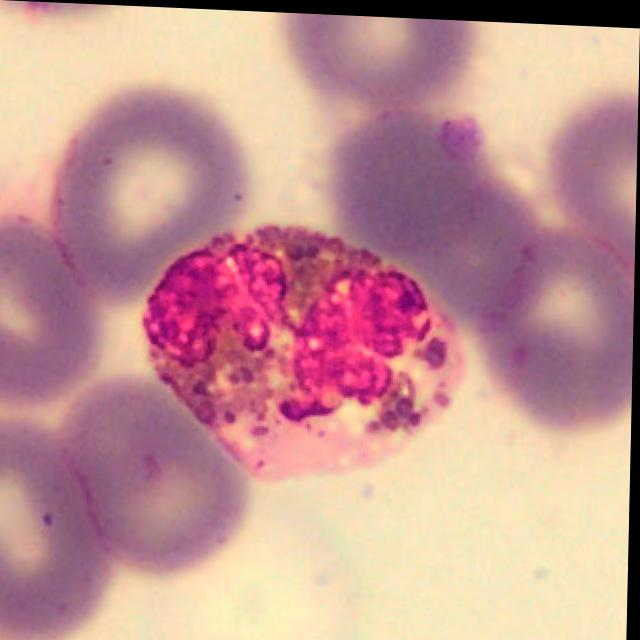Eosinofilo: (143, 223, 465, 482)
